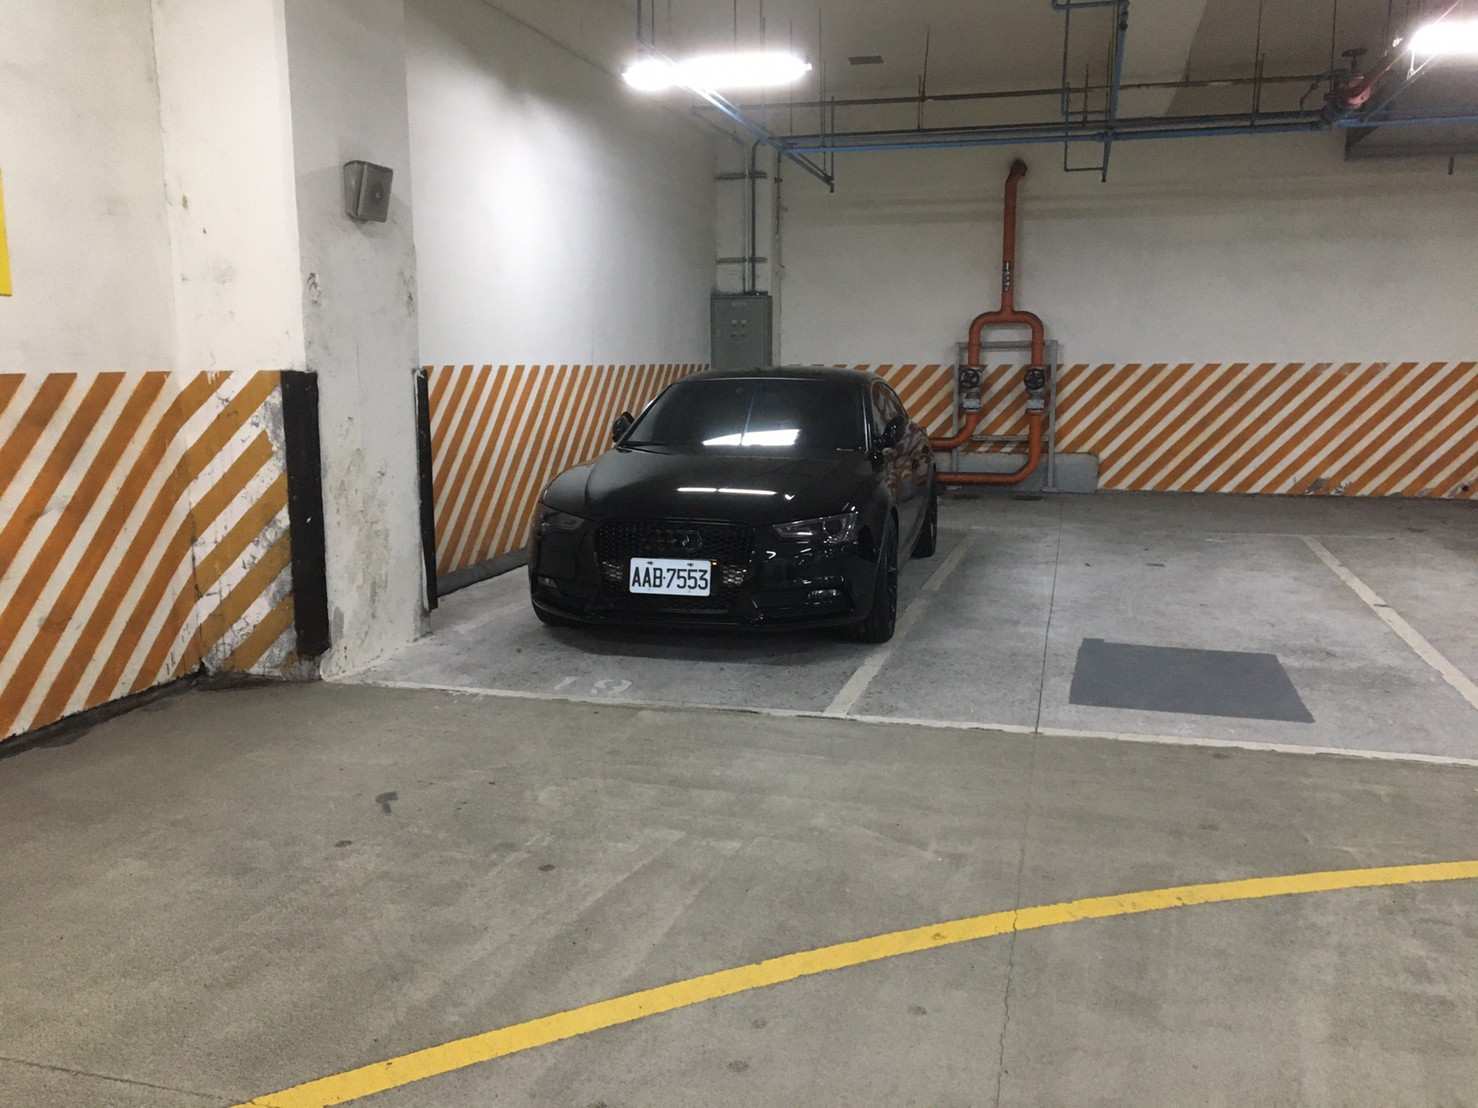LP: (626, 553, 714, 598)
